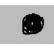correct: (20, 10, 47, 37)
